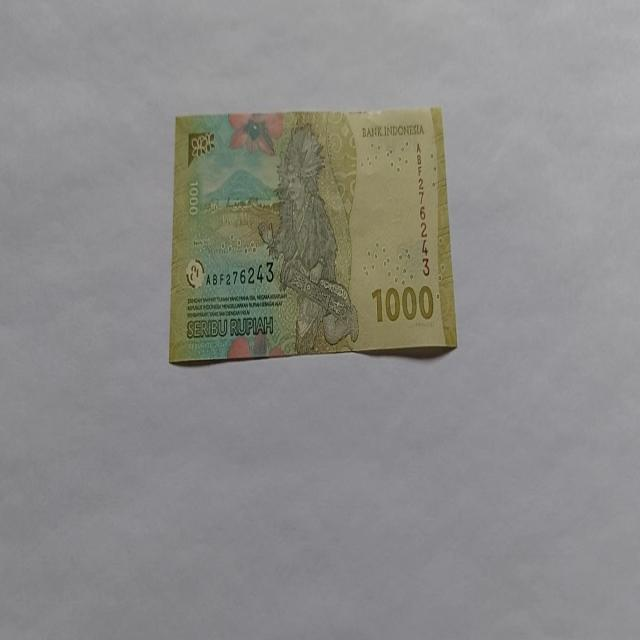seribu rupiah kertas: (168, 106, 458, 364)
